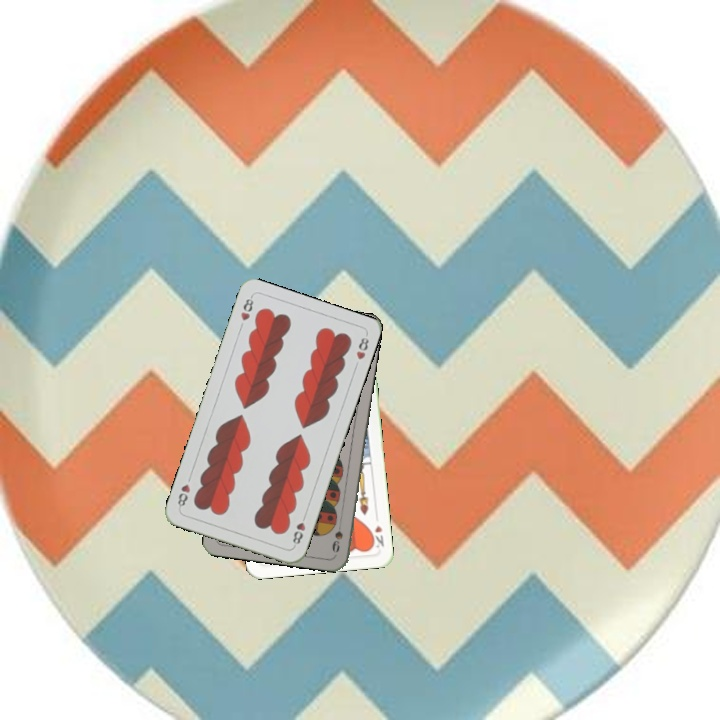H8: (288, 510, 309, 549), (236, 292, 256, 323)
HK: (367, 521, 386, 551)
S9: (328, 527, 345, 555)
